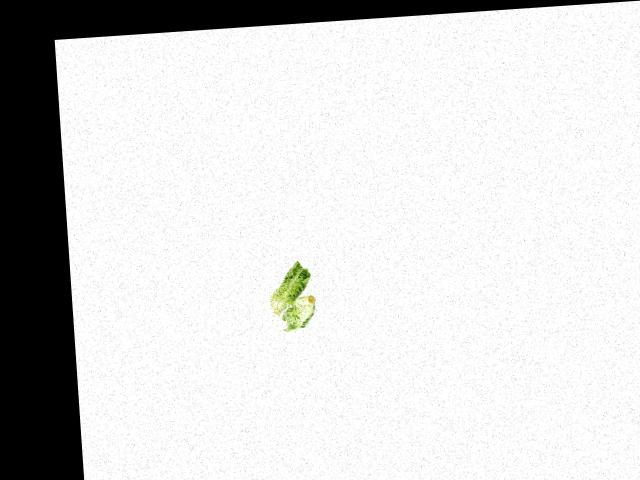lettuce: (279, 292, 323, 333)
